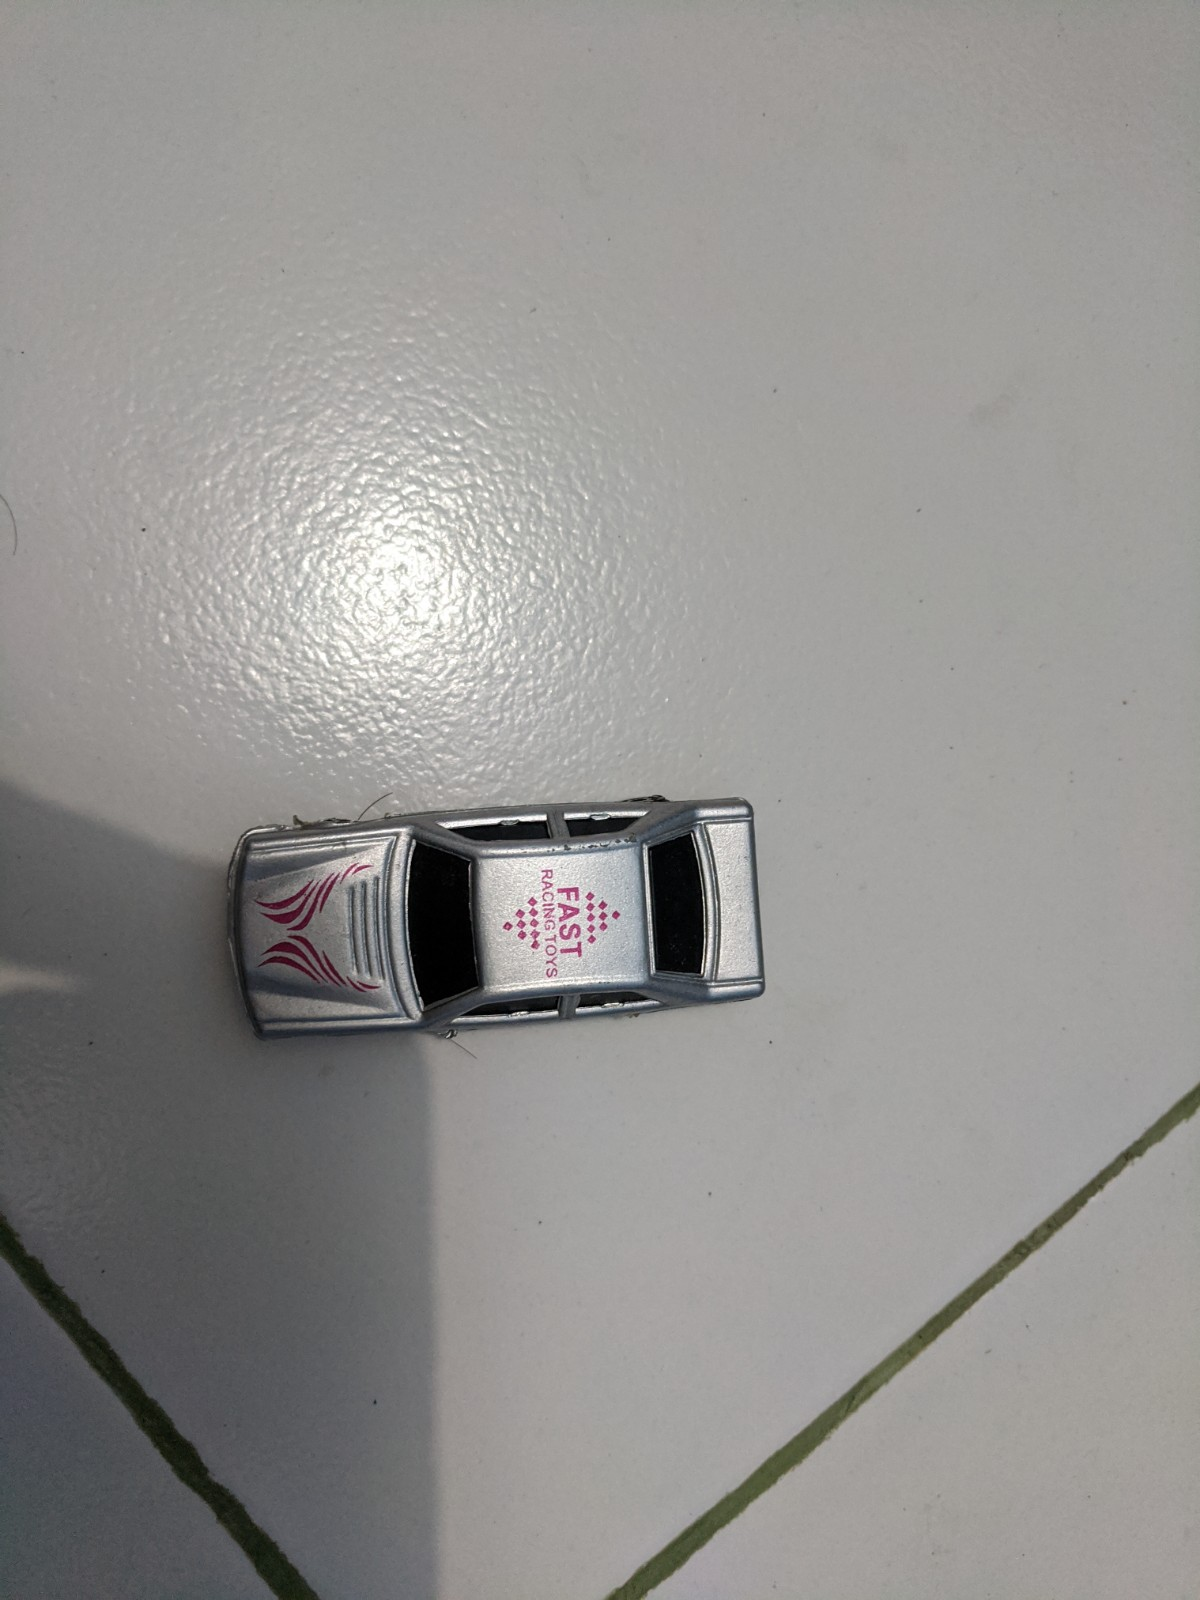mobil: (221, 823, 760, 1031)
